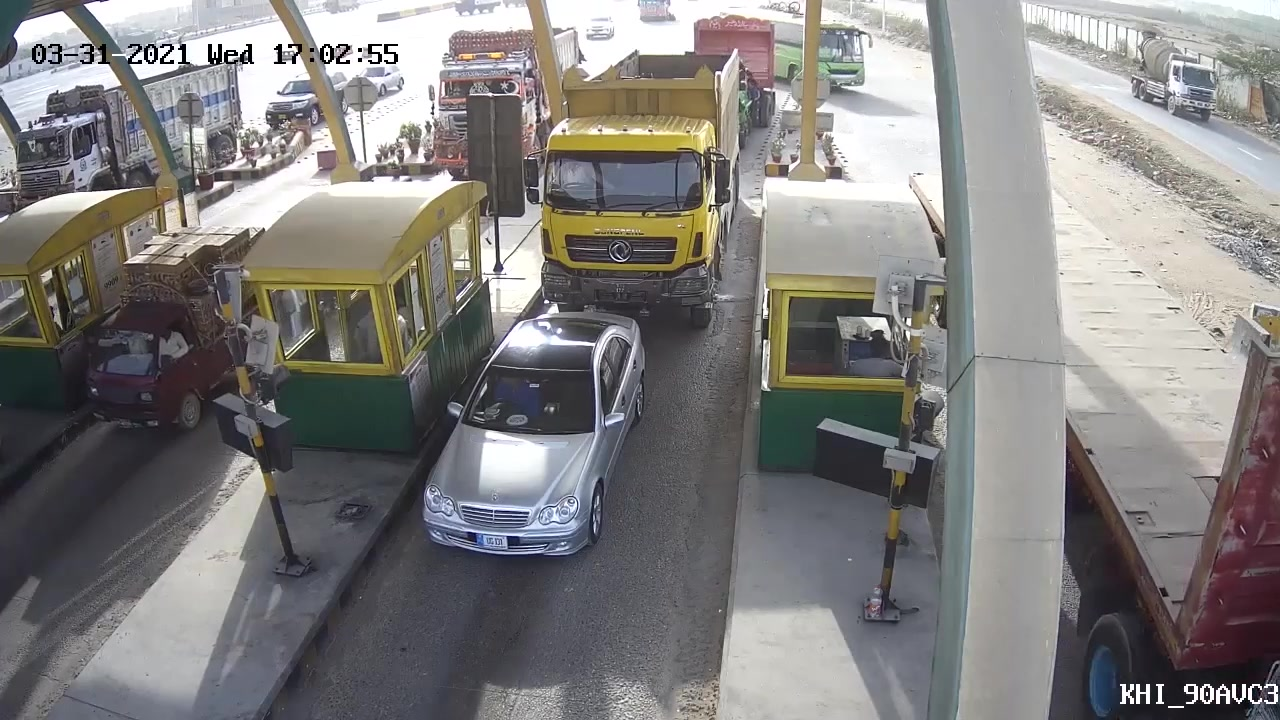F1: (401, 307, 652, 582)
F5: (526, 42, 750, 330)
